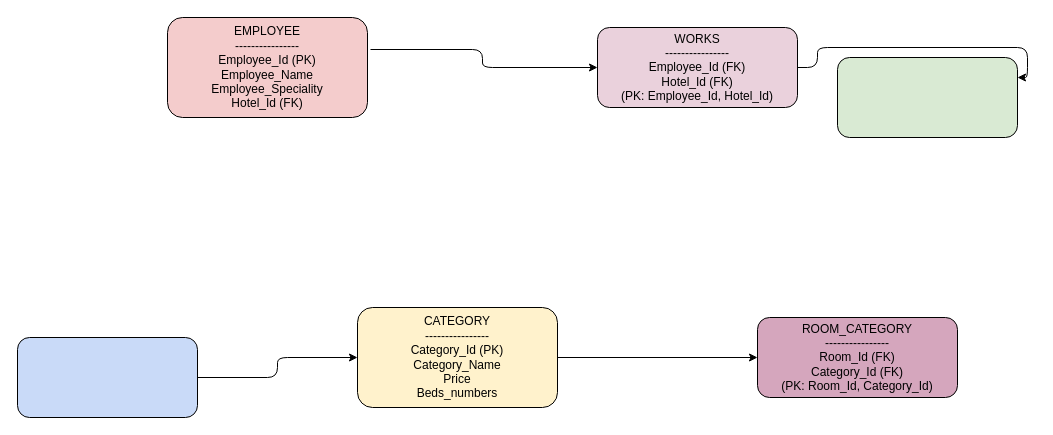
Image size: 1053x435. Some labels were removed from this diagram. Each missing label, with the centre of its shape:
HOTEL ---------------- Hotel_Id (PK) Hotel_name: the point at 927,97
ROOM ---------------- Room_Id (PK) Floor Type_Id (FK): the point at 107,377
